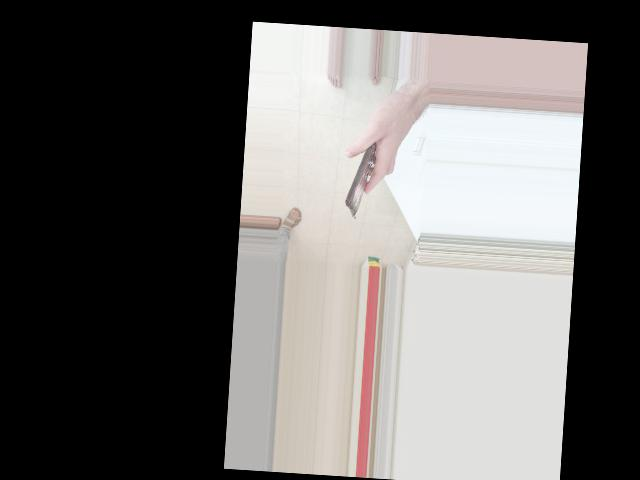chocolate: (341, 106, 400, 223)
